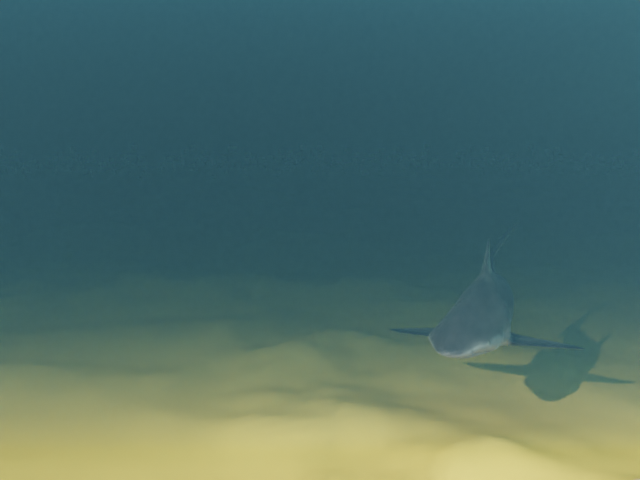Carribean Shark.001: (388, 220, 584, 358)
